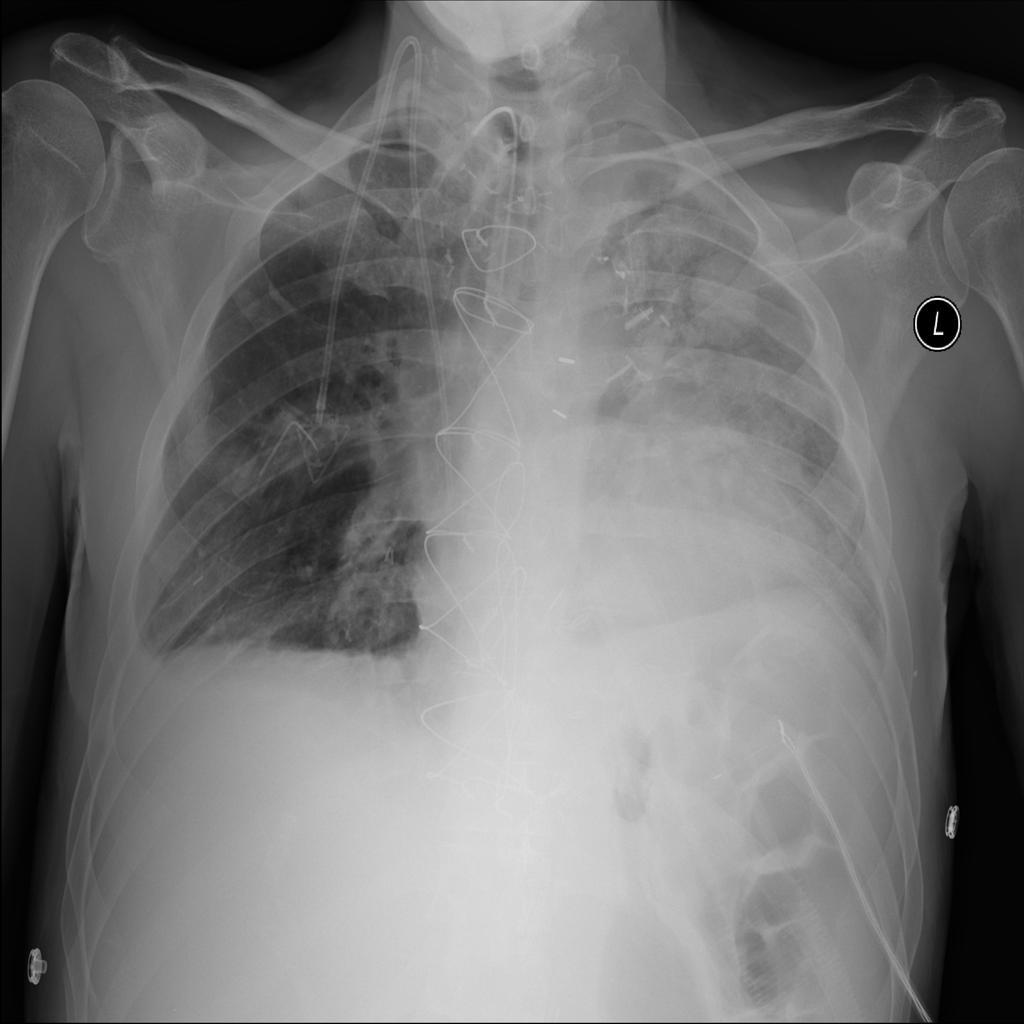nodule: (674, 238, 777, 357), (224, 272, 274, 326)
